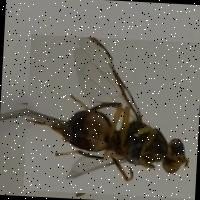Oriental-fruit-fly: (22, 34, 200, 199)
